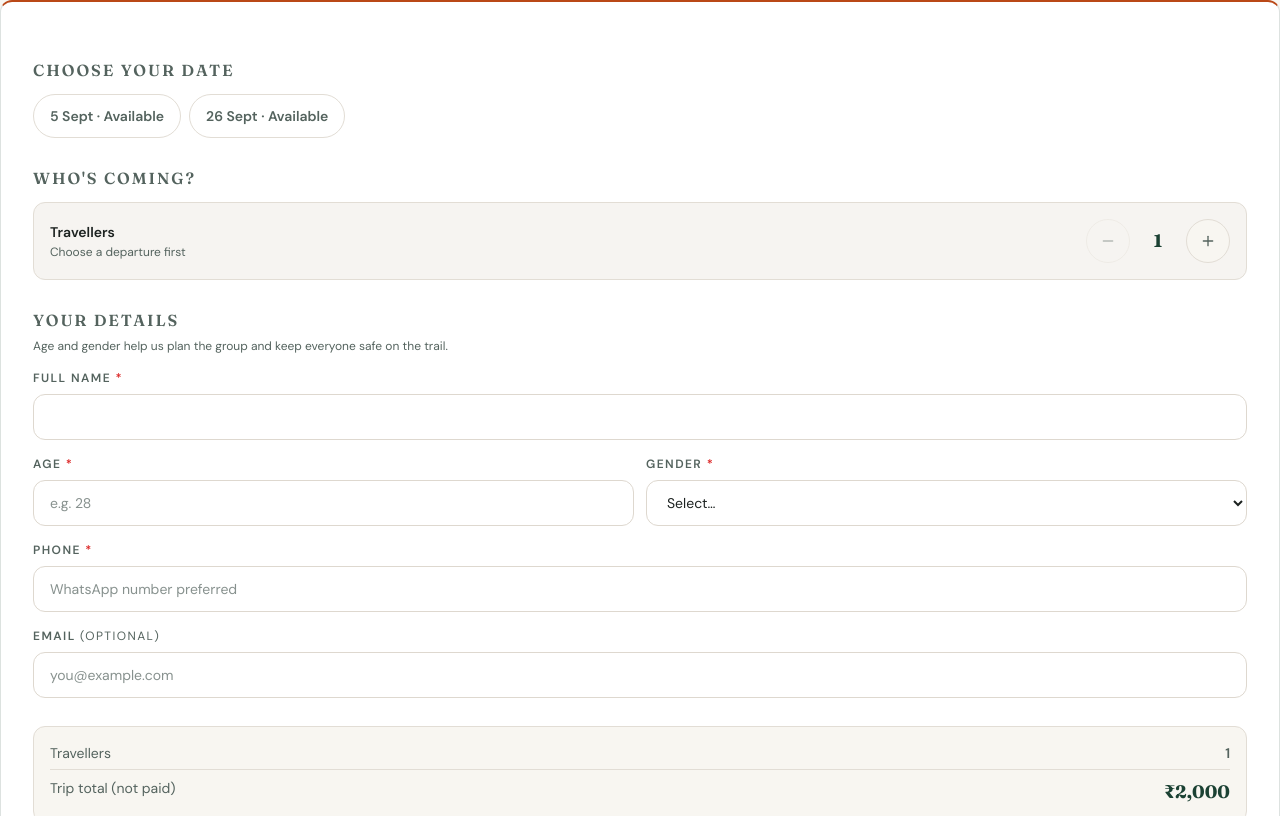
Scenario: BookingForm › keeps full participant rows exactly in sync with the people stepper
Expected: the element "Traveller 2" is not shown
Click the button named "More people": point(1208, 241) [1186,219,1230,263]
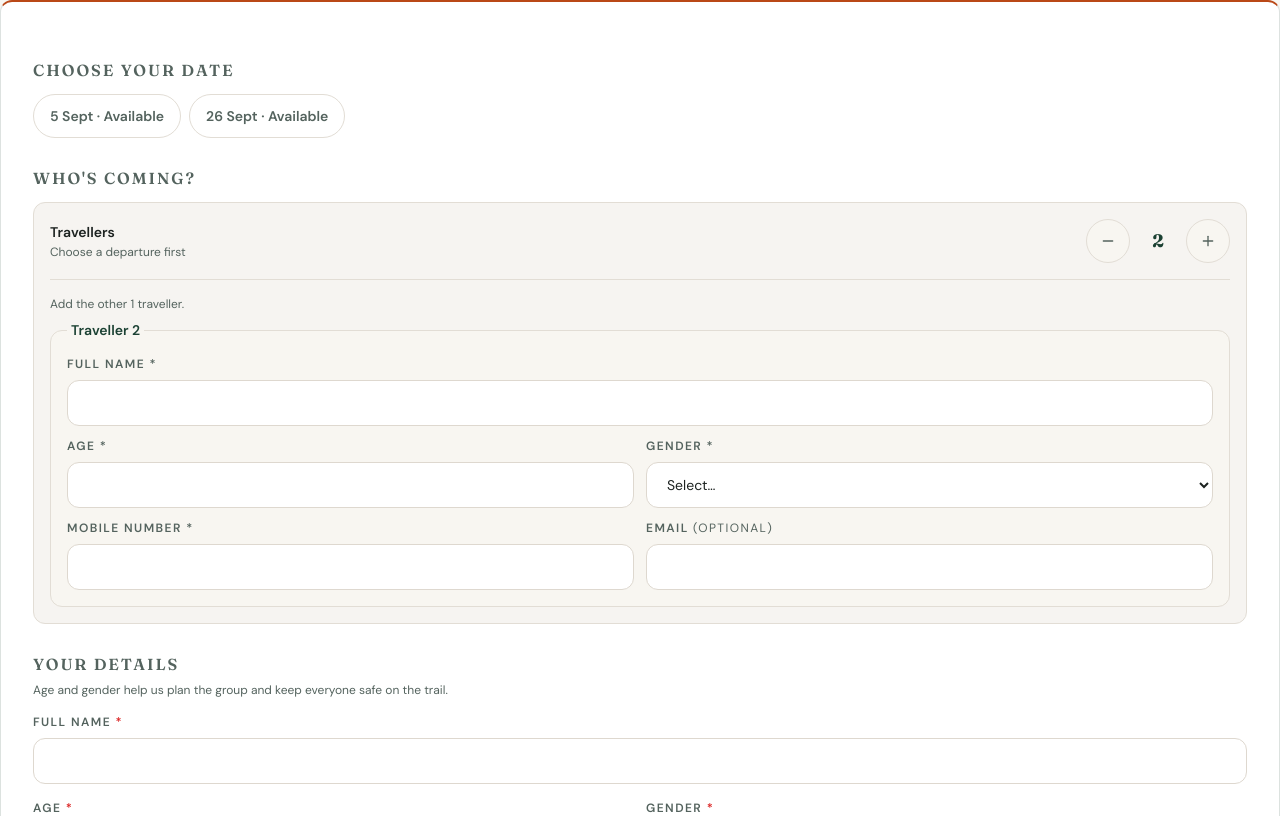
Result: the element "Traveller 2" is shown at [50,320,1230,607]
Click the button named "More people": point(1208, 241) [1186,219,1230,263]
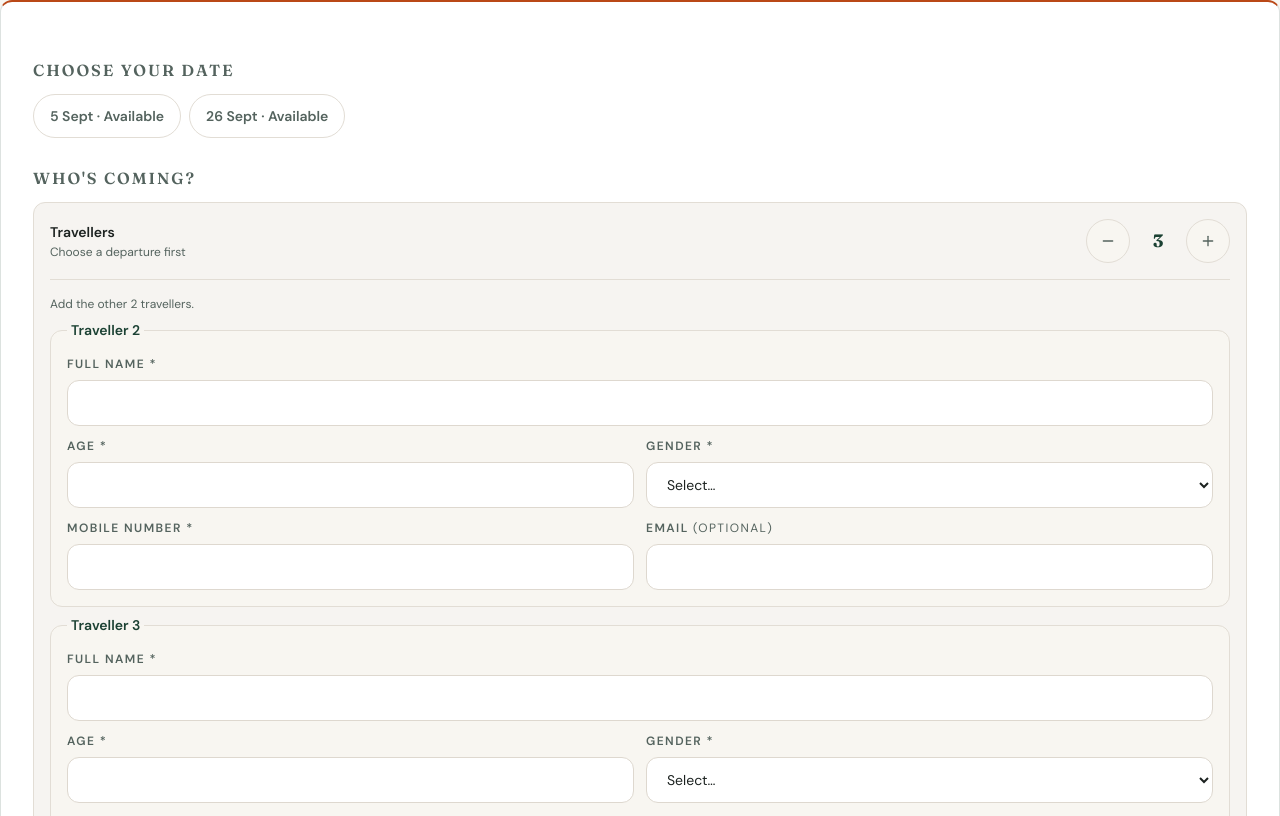
Decrement back to one traveller — no stale member rows may remain.
Click the button named "Fewer people": point(1108, 241) [1086,219,1130,263]
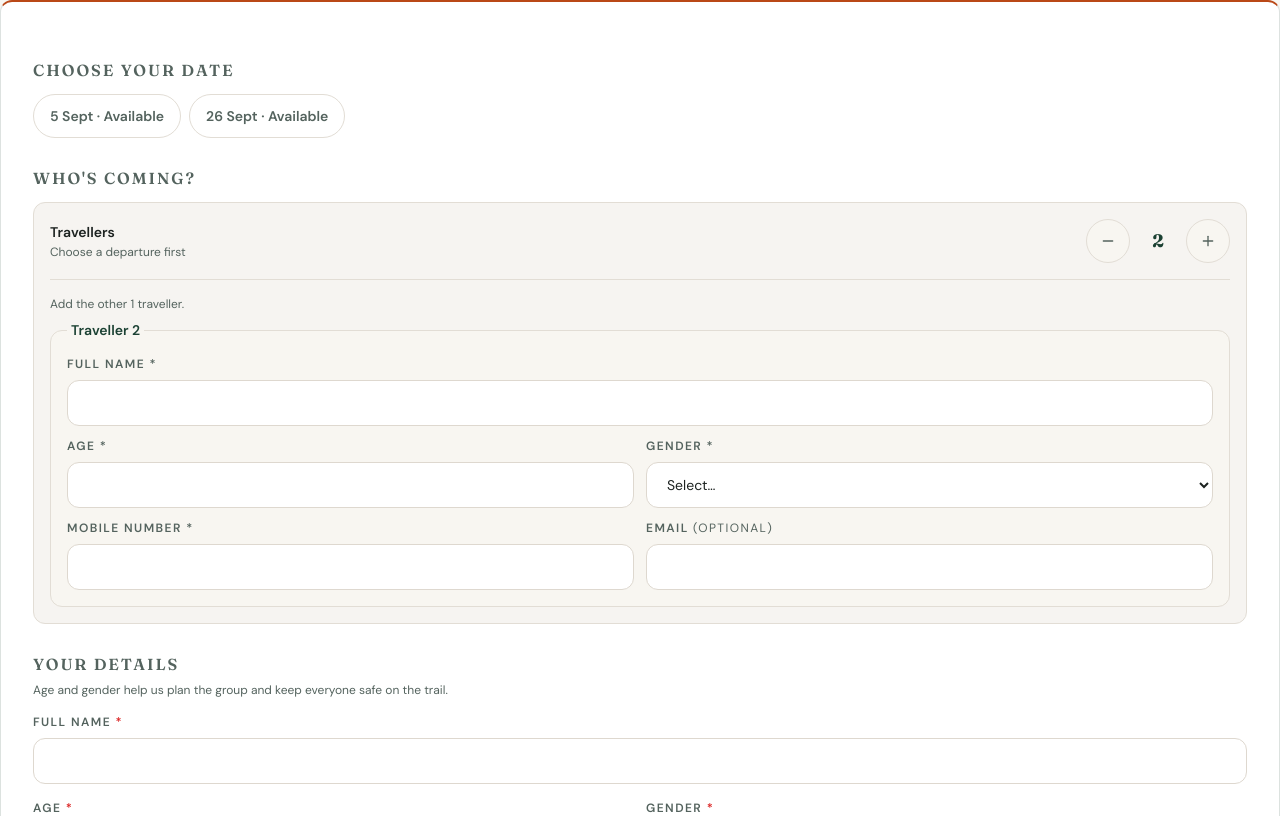
Result: the text "Traveller 3" is gone
Click the button named "Fewer people": point(1108, 241) [1086,219,1130,263]
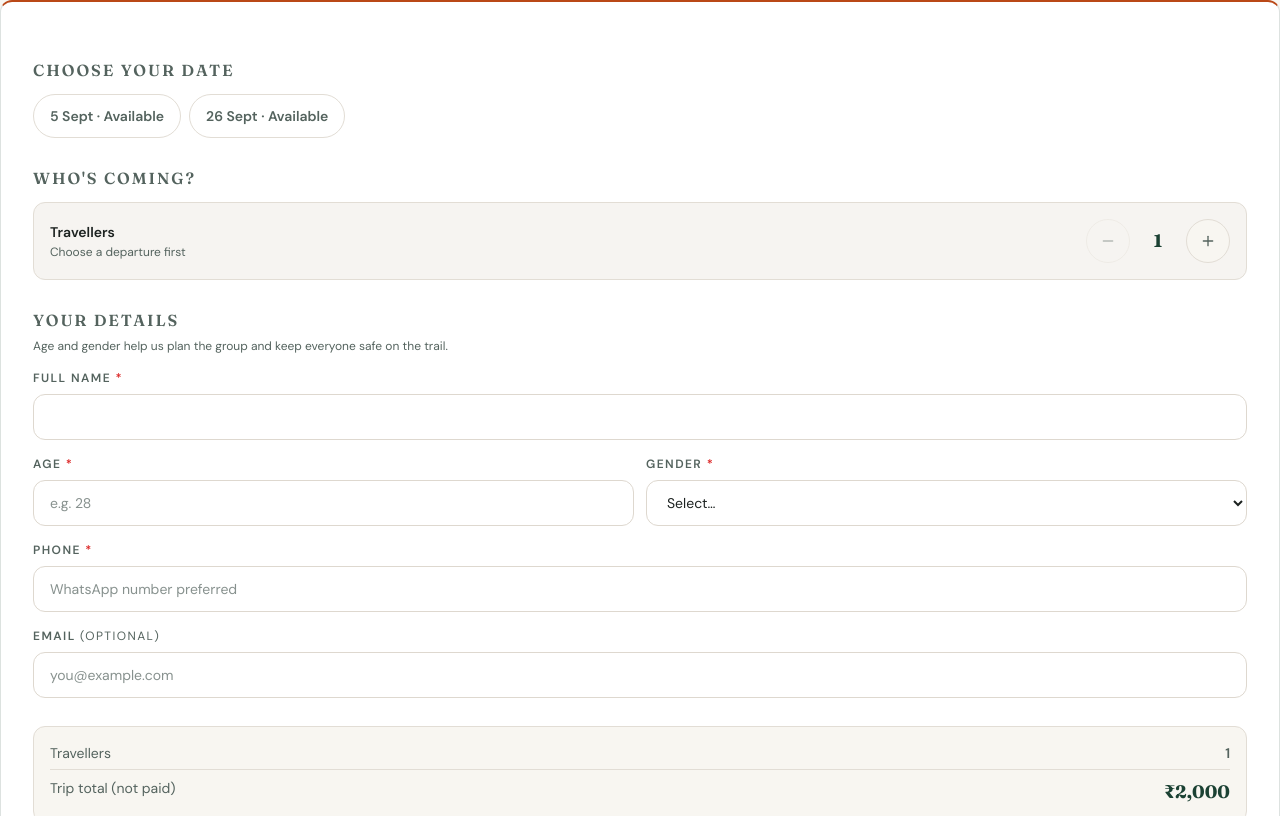
Result: the text "Traveller 2" is gone
